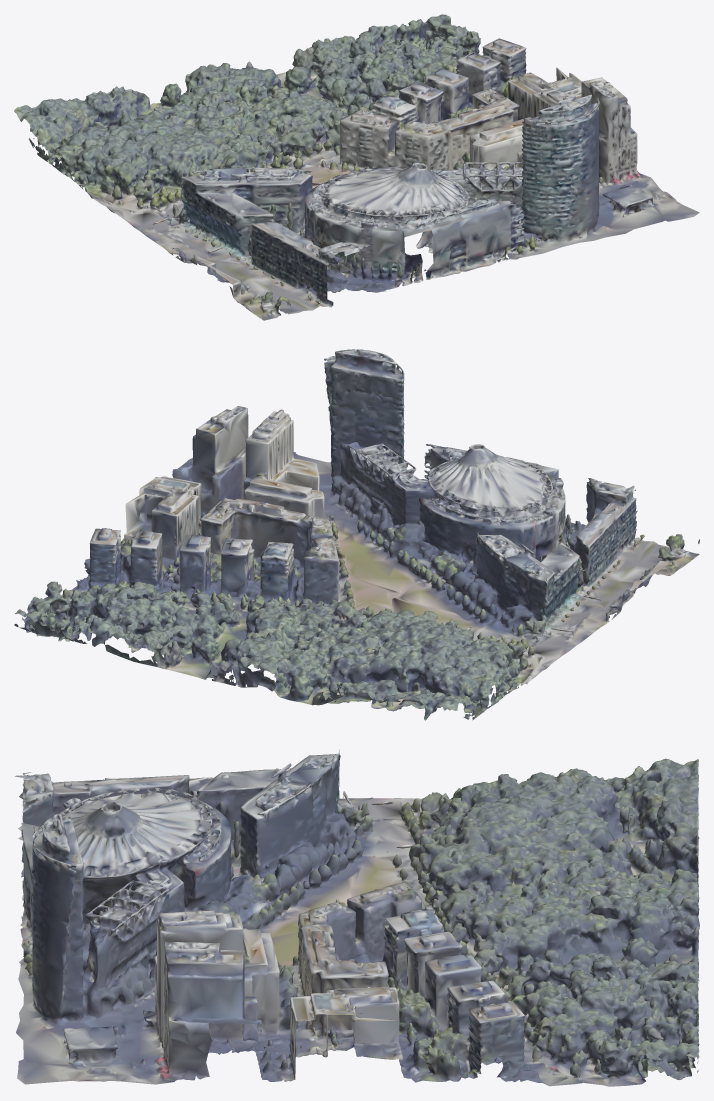
The model's file is surface-detail-3894_58189.glb.
3 views of the same model, one above another, from view 1: azimuth 30°, elevation 25°; view 2: azimuth 150°, elevation 25°; view 3: azimuth 270°, elevation 25° (orthographic). The views are drawn at different scales.
Parts seen in each view (by area): view 1: world; view 2: world; view 3: world.
Part boxes in pixels (left/top/right/bottom): world: left=14, top=14, right=699, bottom=320; world: left=14, top=349, right=699, bottom=720; world: left=15, top=749, right=699, bottom=1086.
Size of the model in its own units: 366 by 115 by 366.
